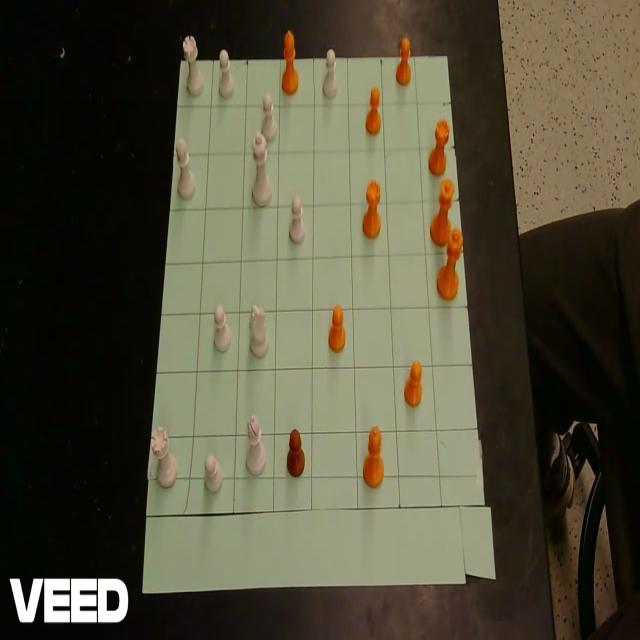orange_bishop: (364, 426, 384, 489), (428, 118, 449, 176), (282, 28, 298, 94)
orange_king: (436, 227, 463, 300)
orange_pawn: (403, 359, 422, 407), (287, 428, 305, 478), (328, 304, 346, 353), (396, 35, 412, 86), (366, 86, 382, 134)
orange_queen: (430, 178, 454, 247)
orange_rook: (362, 177, 382, 238)
white_bishop: (246, 413, 267, 475), (176, 135, 196, 199)
white_king: (251, 130, 271, 205)
white_knight: (249, 302, 270, 357)
white_pawn: (213, 300, 231, 352), (204, 451, 224, 493), (218, 46, 234, 98), (261, 91, 277, 142), (289, 193, 305, 243), (323, 47, 338, 97)
white_rook: (152, 426, 178, 489), (183, 34, 204, 96)
